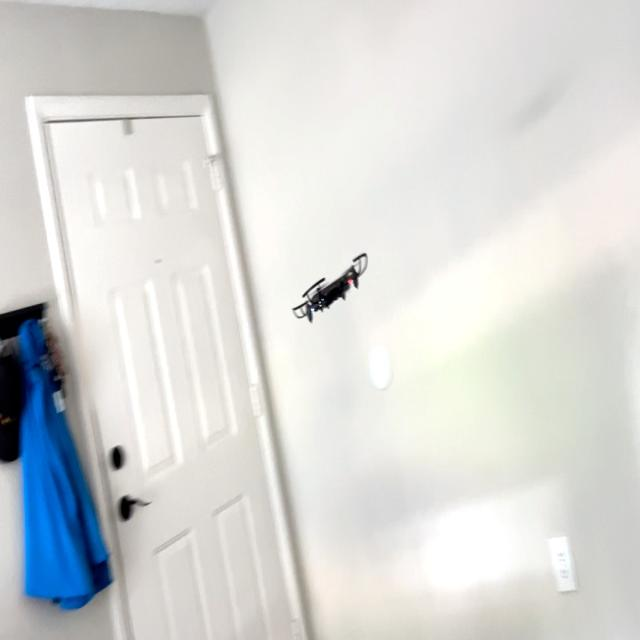drone: (286, 234, 377, 338)
